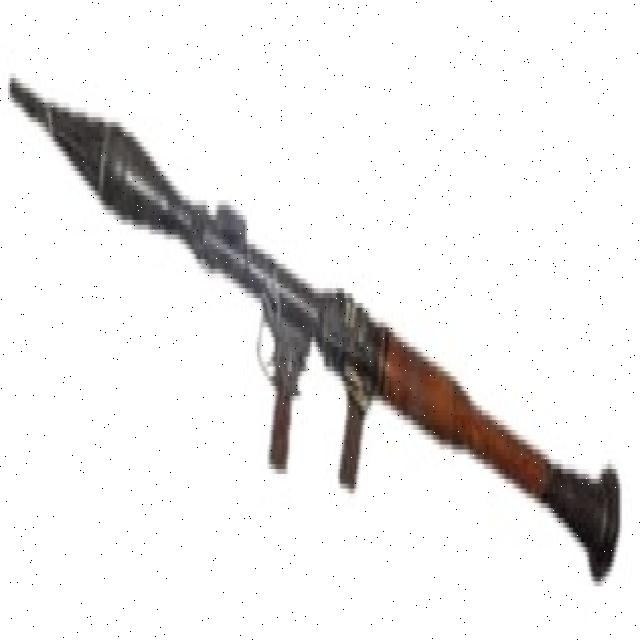bazooka: (6, 62, 627, 588)
